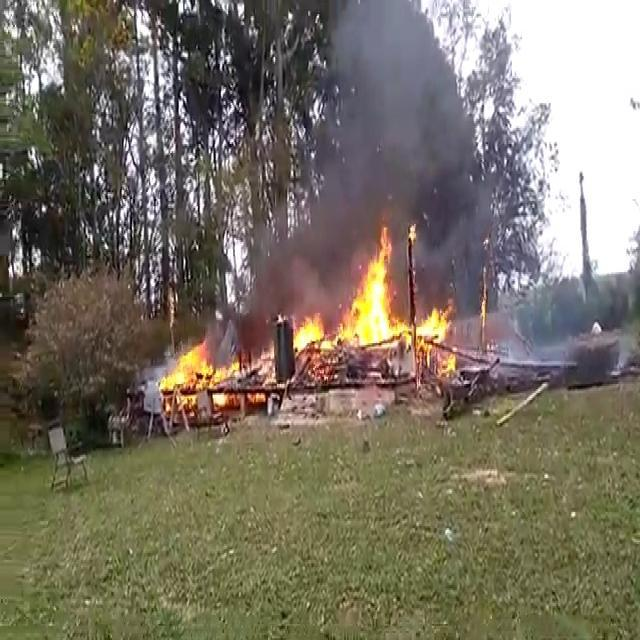Fire: (332, 215, 409, 350), (165, 343, 241, 407), (414, 308, 451, 360), (294, 313, 325, 352), (442, 350, 457, 375)
Smoke: (332, 0, 504, 198), (218, 121, 318, 320), (416, 168, 516, 284), (286, 256, 342, 319)
